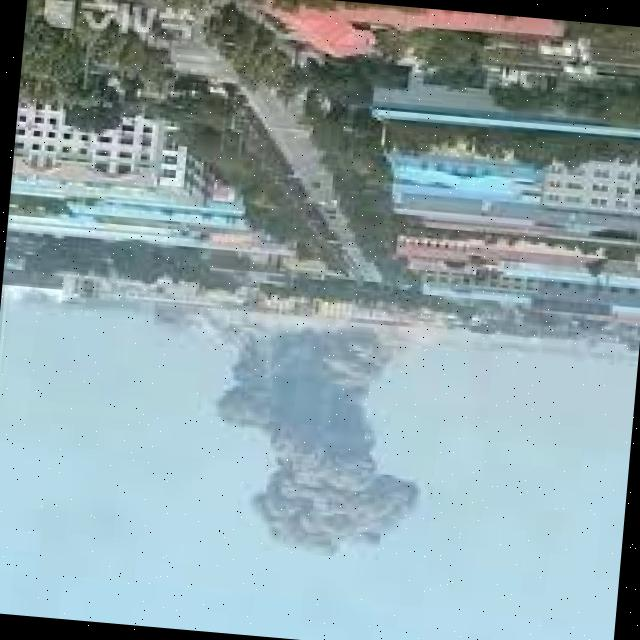explosion: (139, 298, 452, 566)
